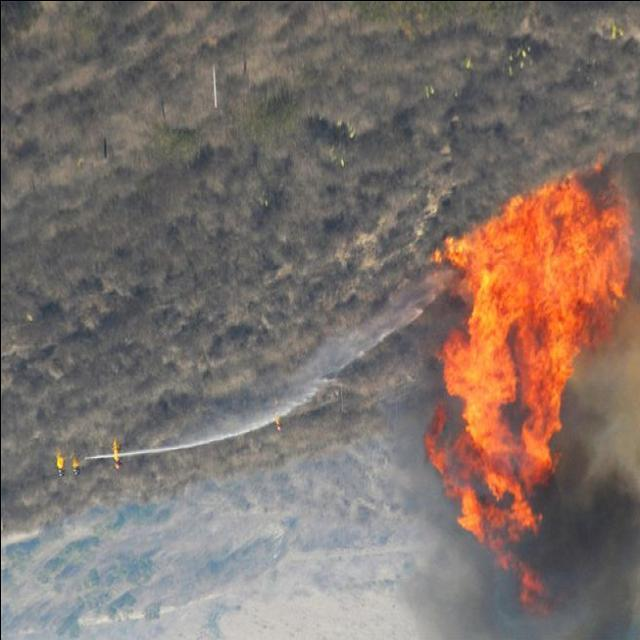Fire: (418, 176, 630, 600)
